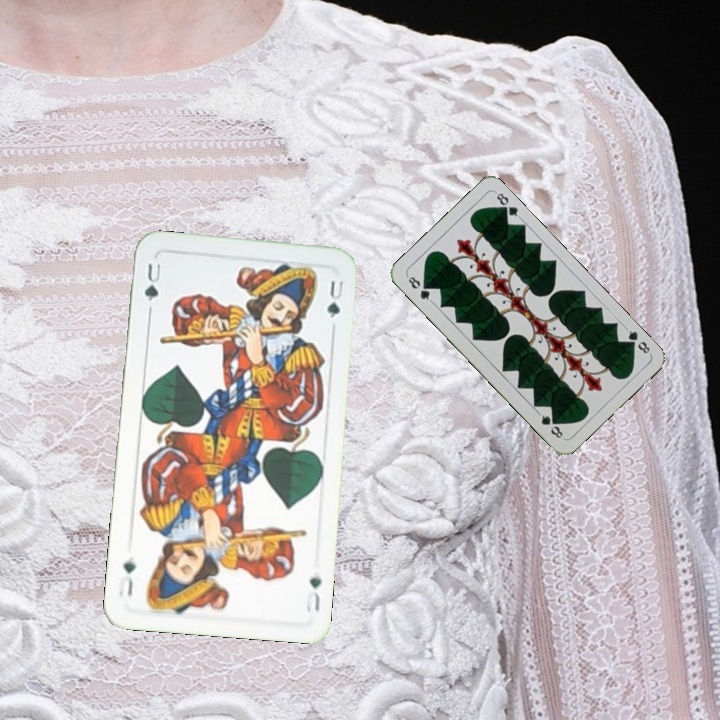G8: (403, 272, 435, 304), (622, 324, 652, 356)
GU: (140, 259, 164, 314), (302, 572, 324, 614)
